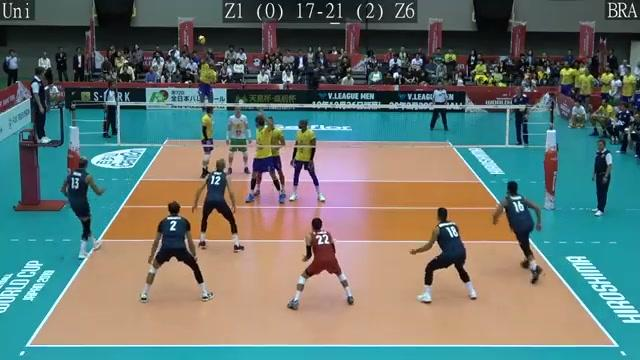ball: (196, 33, 207, 44)
